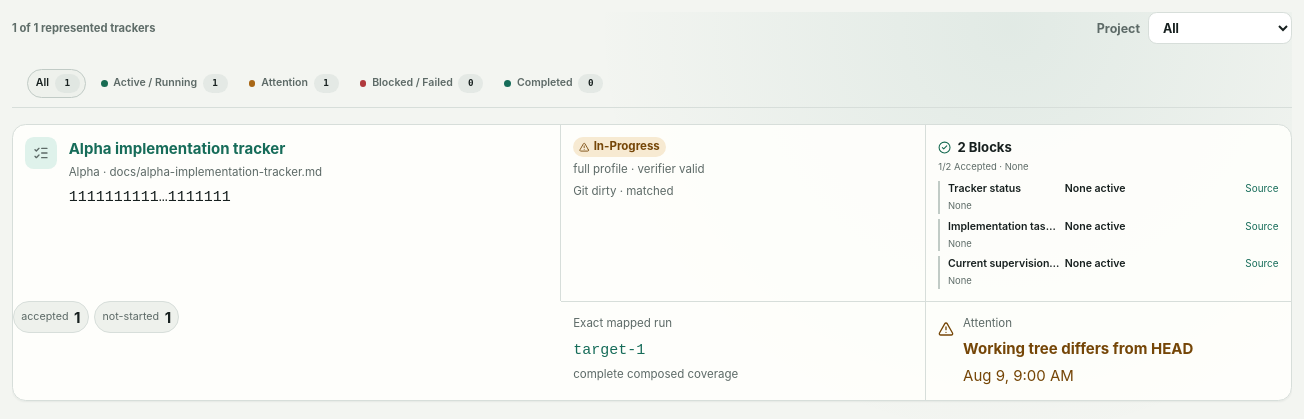
Test: tracker review workspace › shows exact index posture, status counts, mapped run, attention, and URL filters
The width and height of the screenshot is (1304, 419).
Expected: the link "Alpha implementation tracker" is shown, [69, 137, 322, 160]
Expected: the text "accepted" is shown, [21, 309, 68, 326]
Click the button with aria-label "Completed: 0 exact". click: click(553, 84)
box: [496, 69, 610, 98]
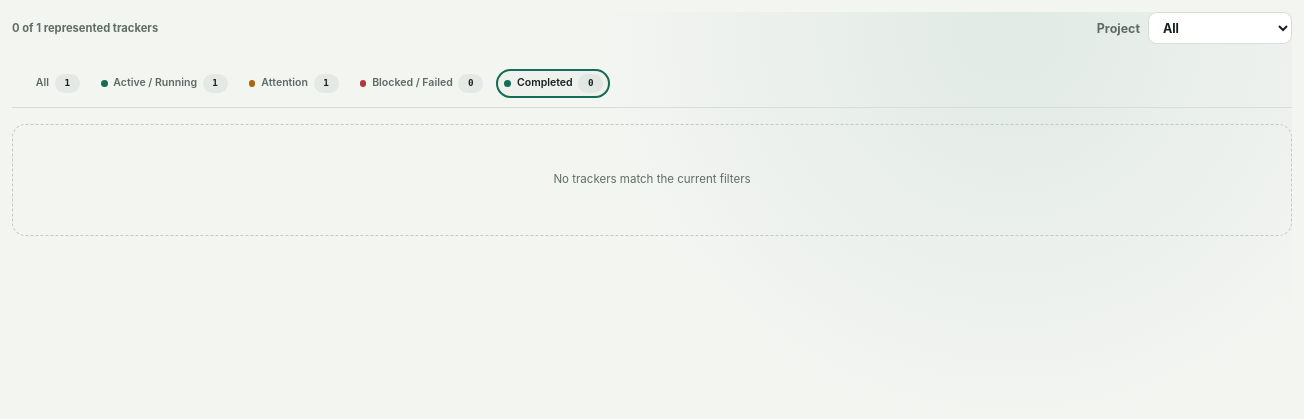
Expected: the text "No trackers match the current filters" is shown, [553, 171, 750, 188]
